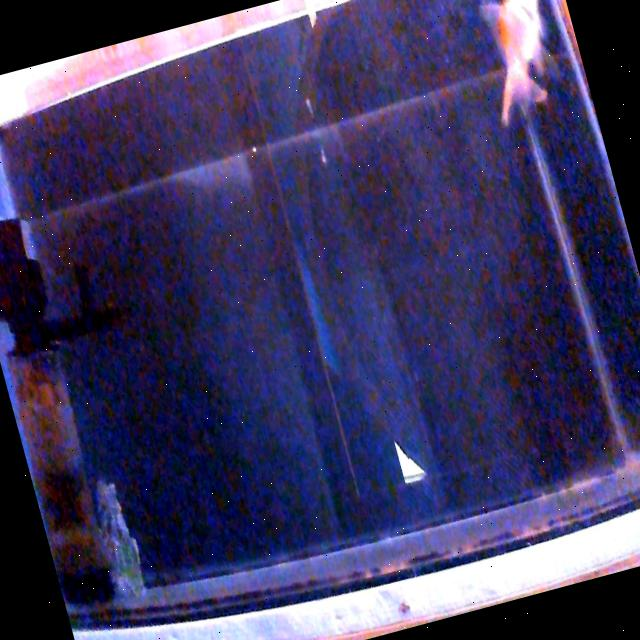fish: (482, 0, 546, 124)
